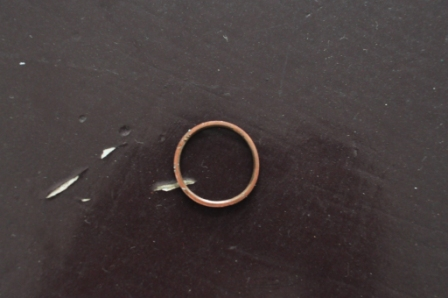ring: (169, 114, 265, 212)
